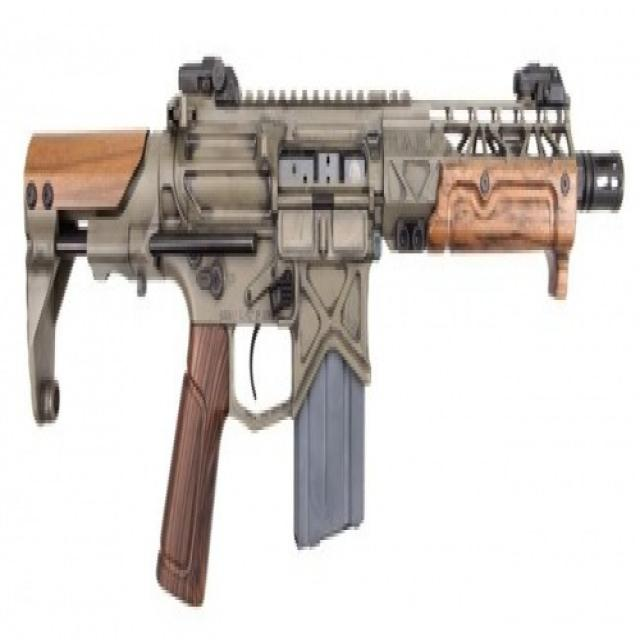rifle: (26, 34, 630, 628)
